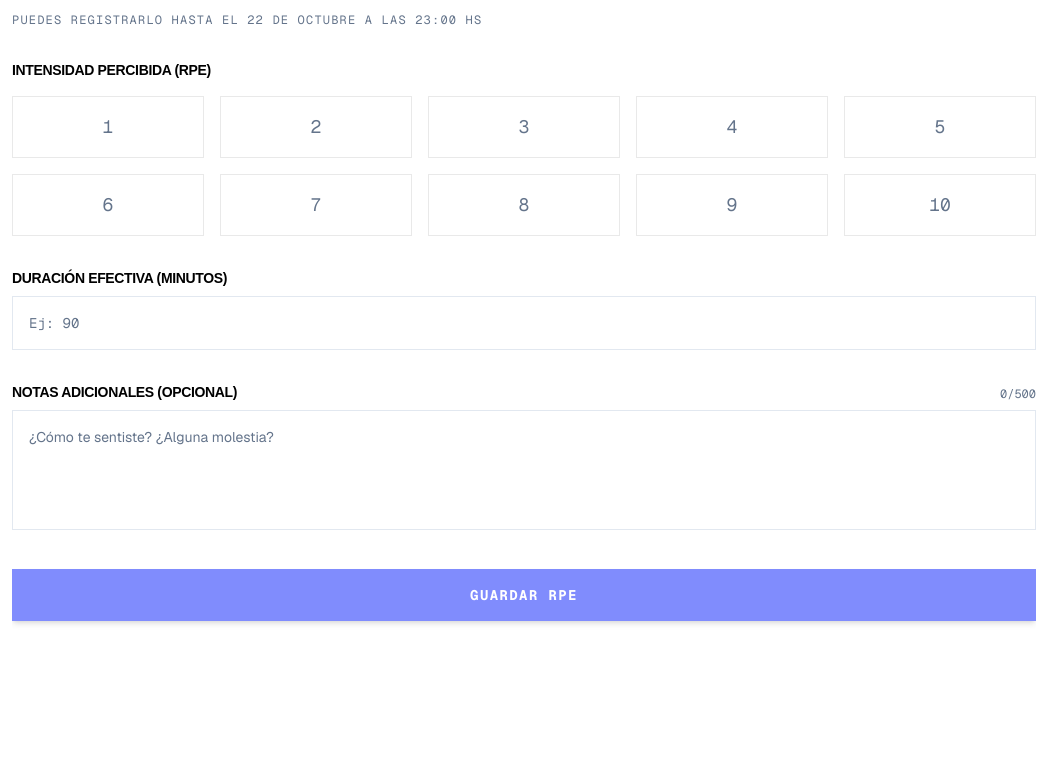
Test: RpeForm — plazo › si la API responde RPE_WINDOW_CLOSED se explica en español
The width and height of the screenshot is (1048, 780).
Click the button "7" at (316, 205), box [220,174,412,236]
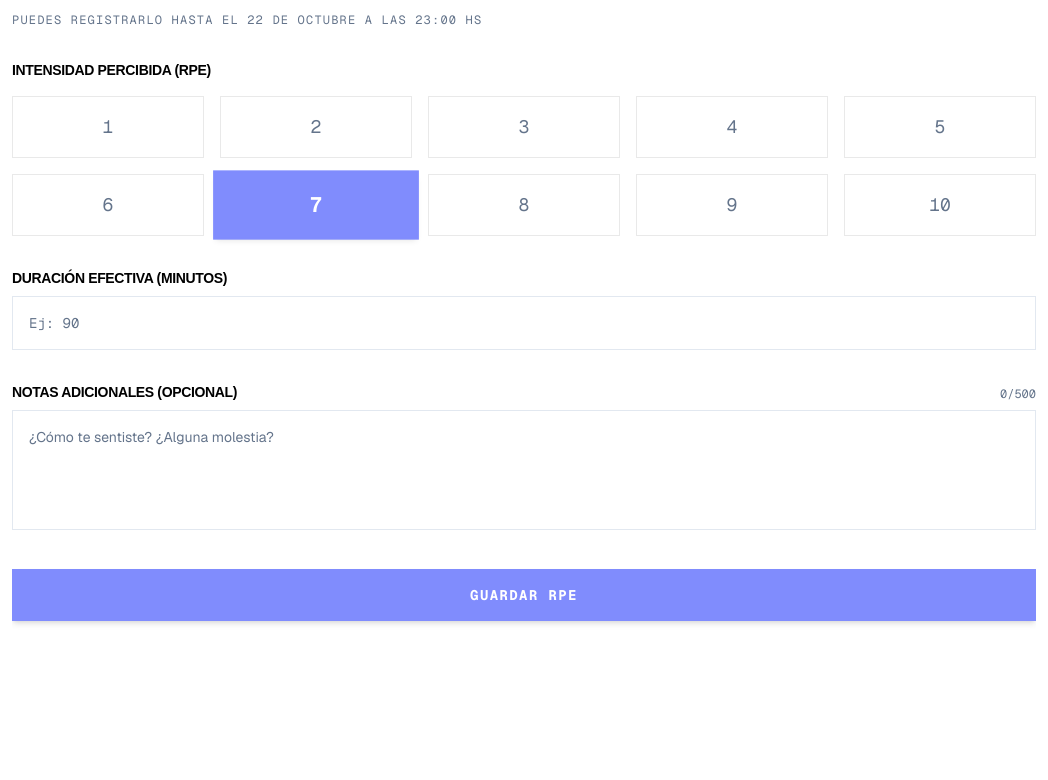
Type "60" into the number field labelled "Duración efectiva (minutos)" at (524, 323), box [12,296,1036,350]
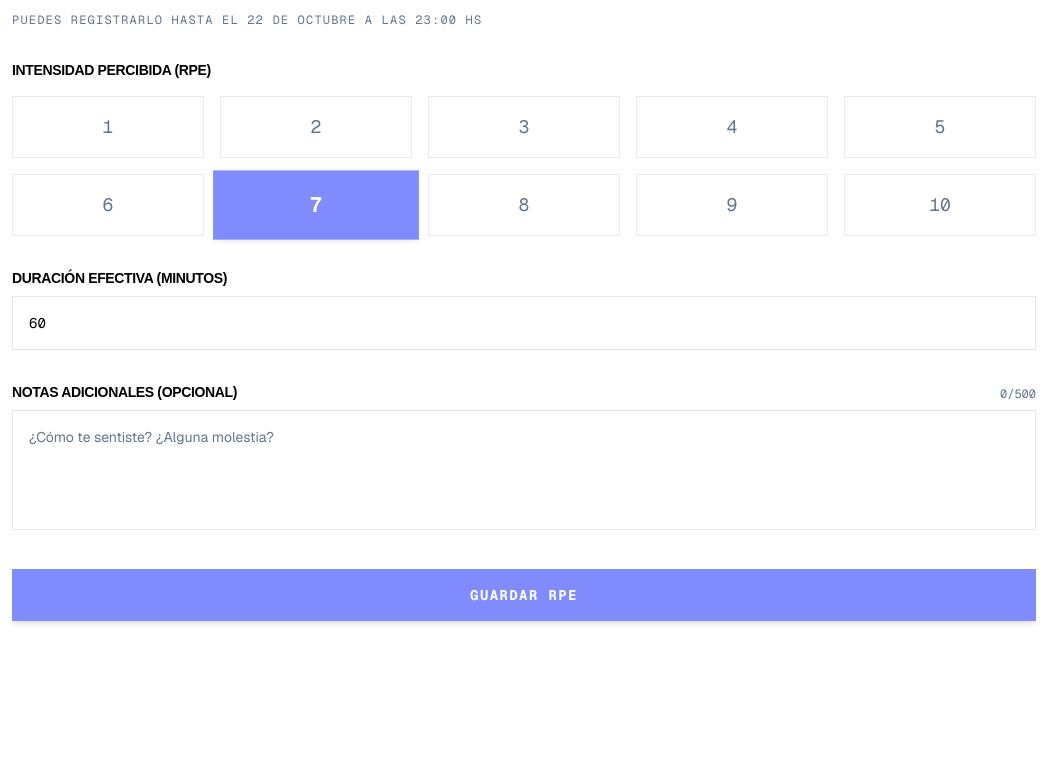
Click the button "Guardar RPE" at (524, 595), box [12,569,1036,621]
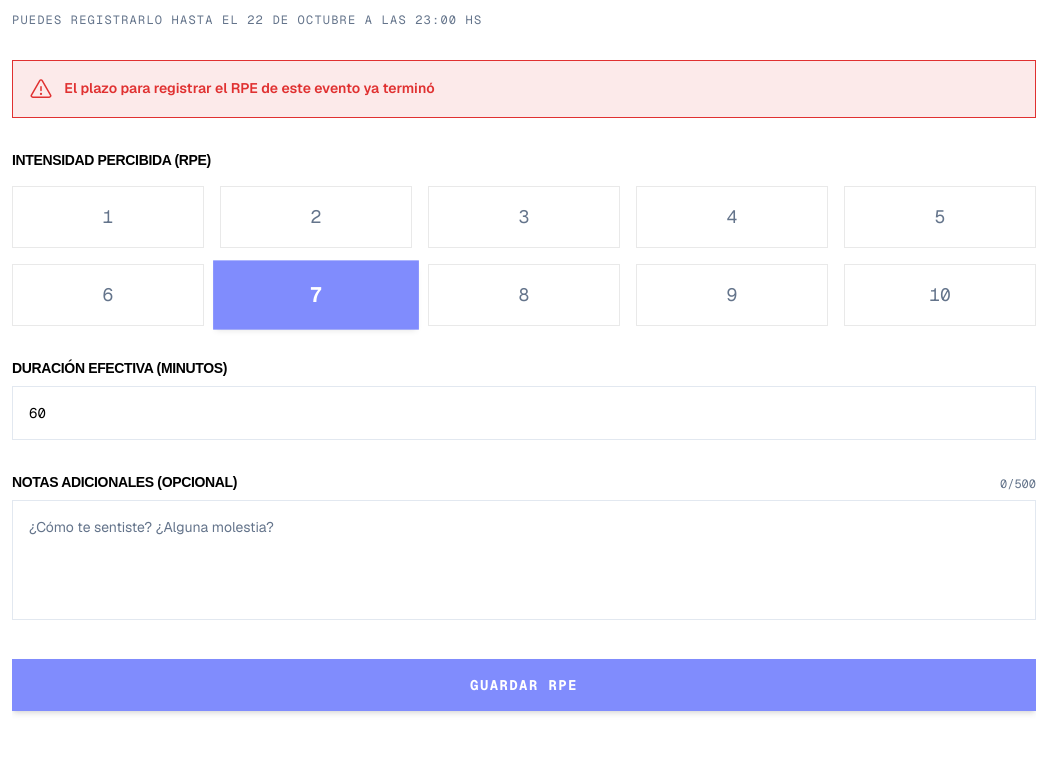
expect the text "El plazo para registrar el RPE de este evento ya terminó" is shown: met, box [12,60,1036,118]
